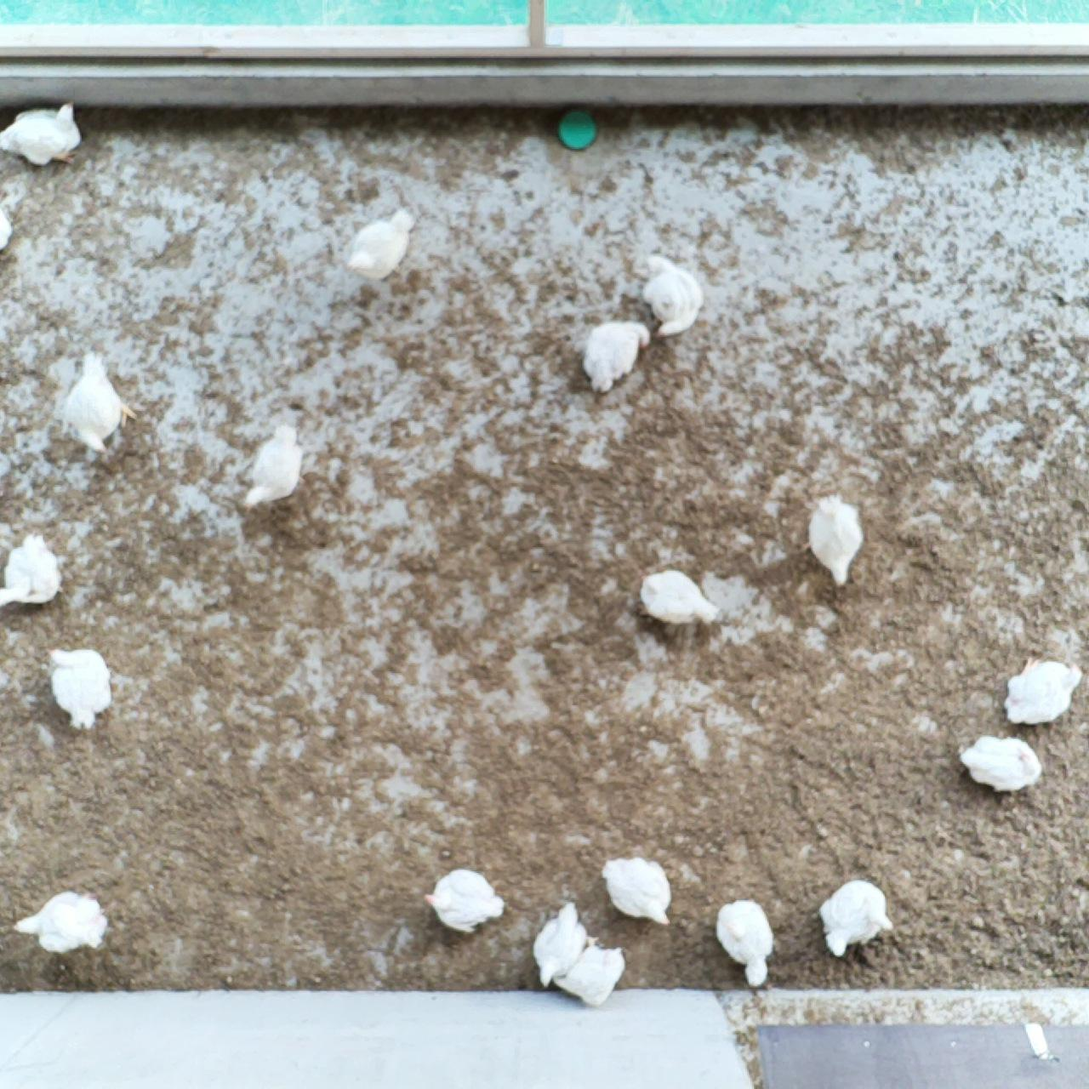chicken: (56, 345, 137, 457), (793, 486, 869, 586), (43, 642, 118, 736), (420, 862, 506, 942), (12, 889, 112, 956), (341, 206, 420, 290), (816, 877, 896, 959), (710, 894, 778, 989), (239, 422, 306, 518), (1002, 654, 1085, 731), (637, 252, 708, 339), (580, 317, 653, 401), (0, 98, 86, 167), (597, 852, 676, 927), (553, 934, 630, 1010), (633, 565, 723, 629), (531, 899, 592, 993), (0, 529, 66, 615), (956, 732, 1044, 794)
